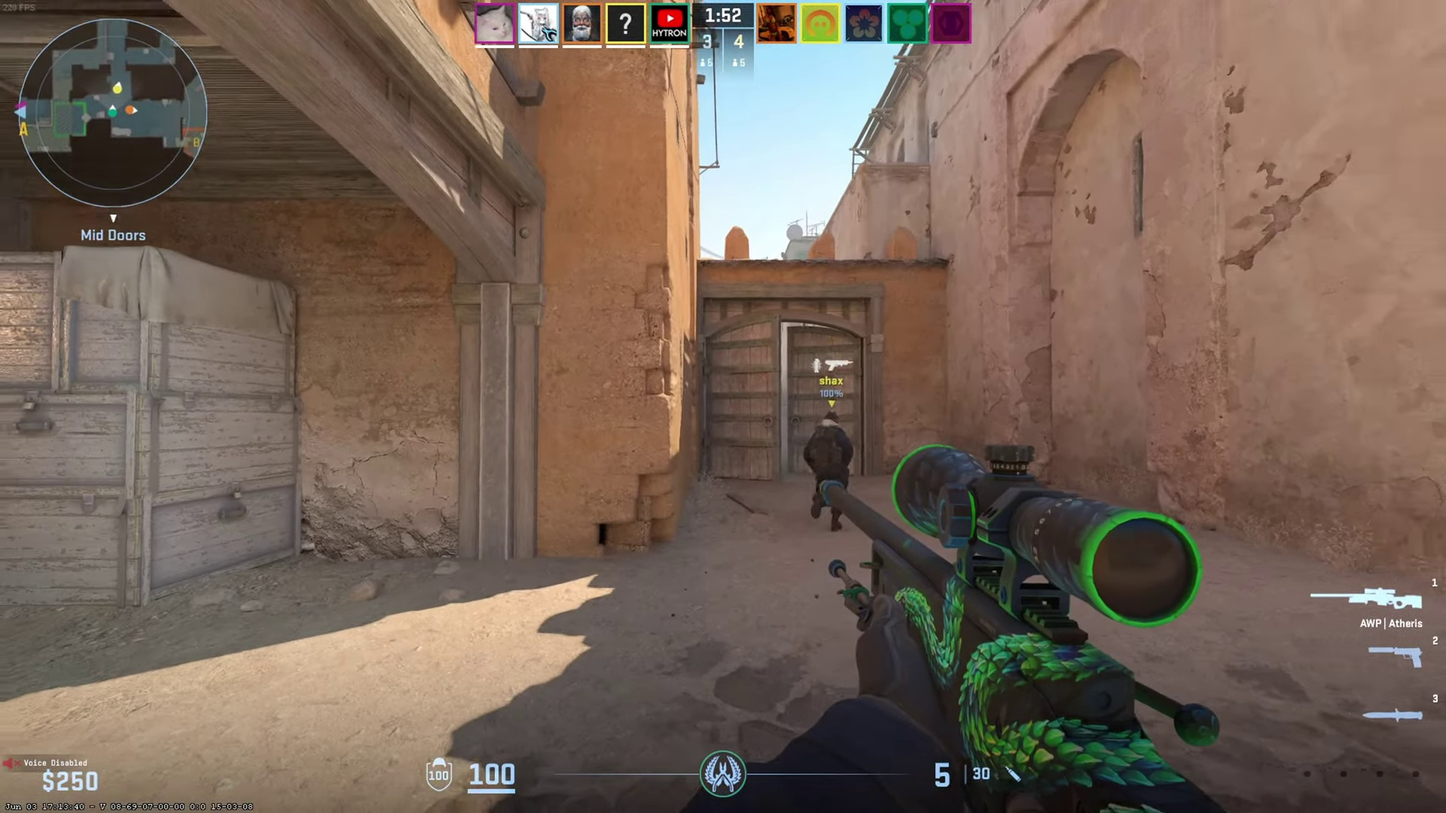CT: (810, 412, 847, 531)
